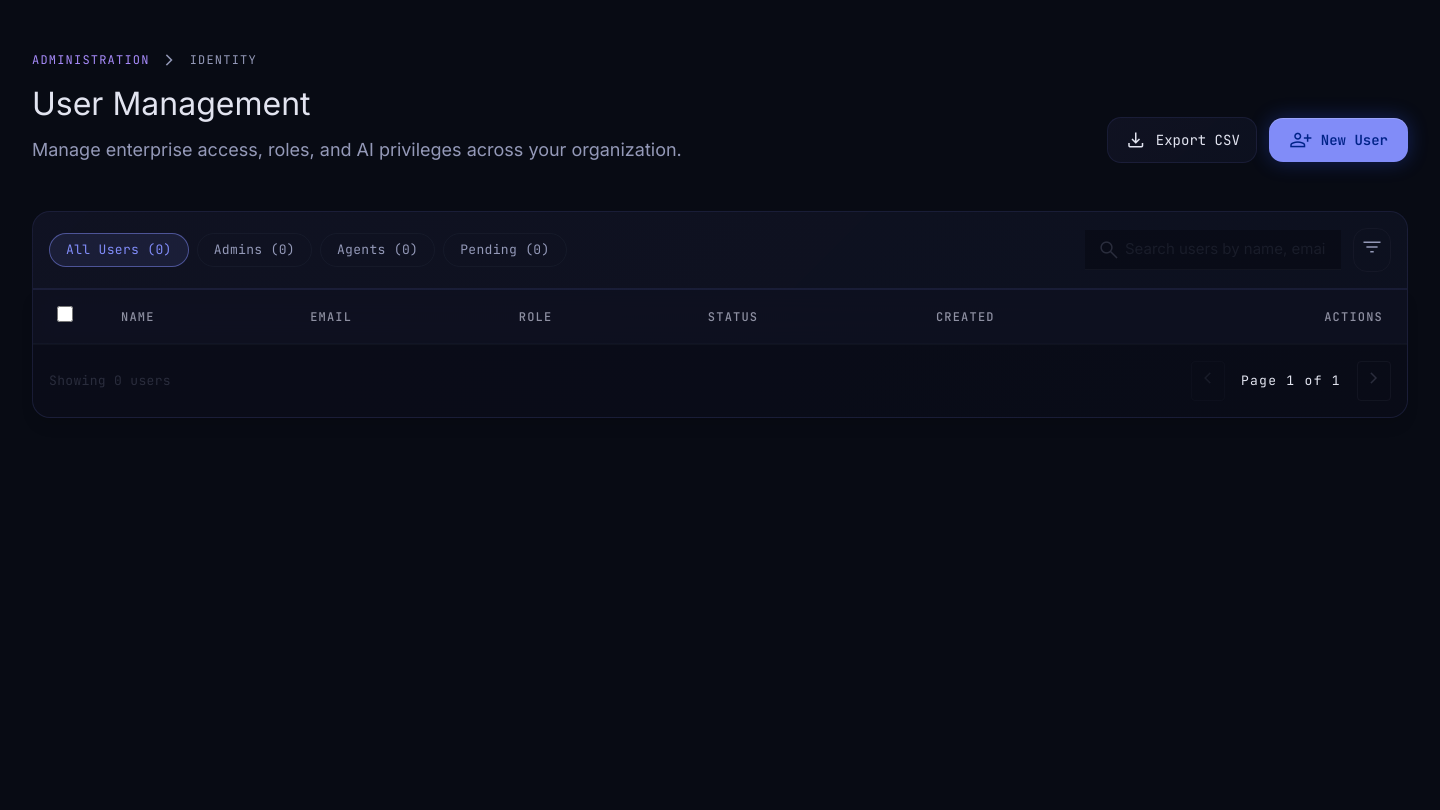
UsersPage › should close the dialog when pressing Escape
The image size is (1440, 810).
Click the button "New User": (1338, 140) [1269,118,1408,162]
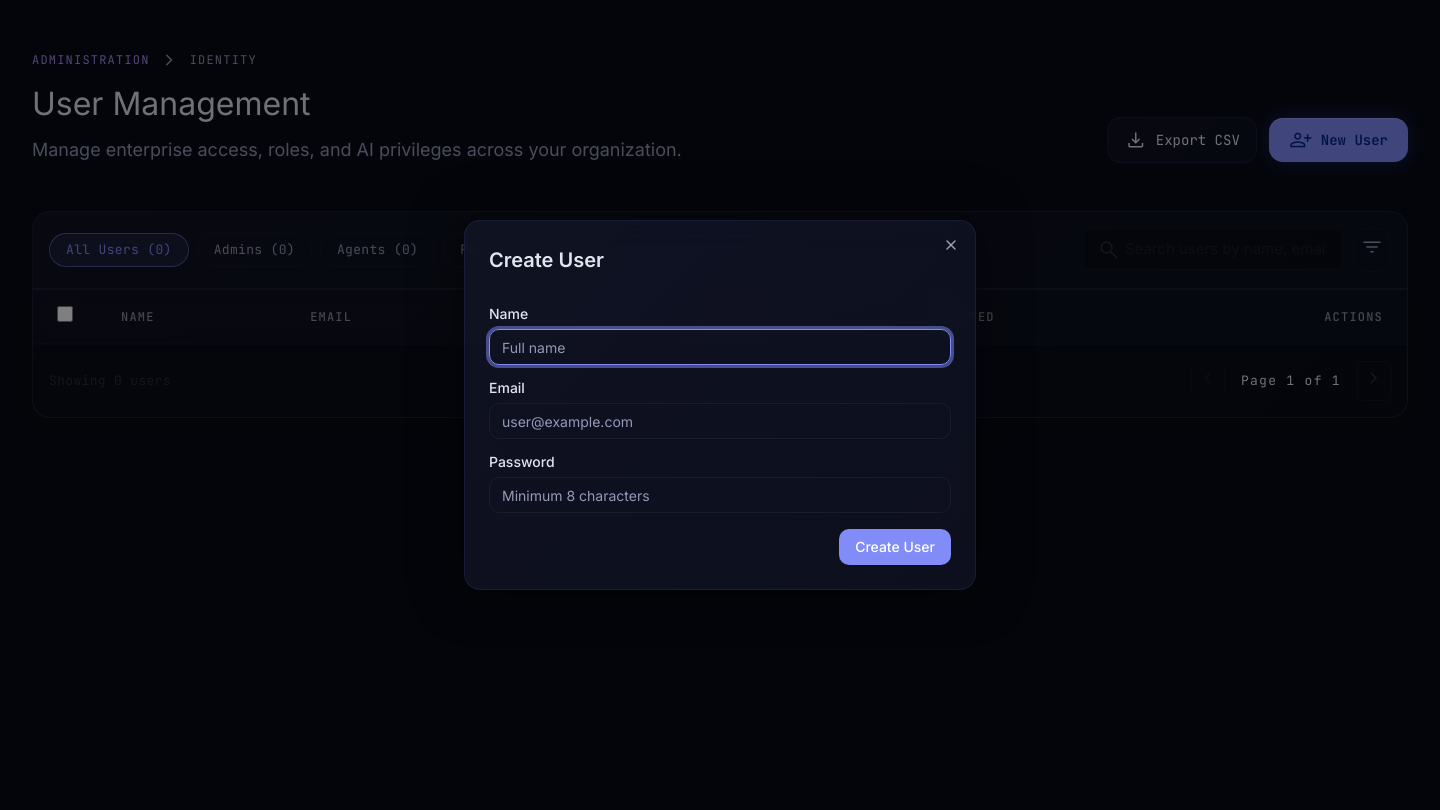
Now the dialog is shown, box [464,220,976,590]
Press Escape
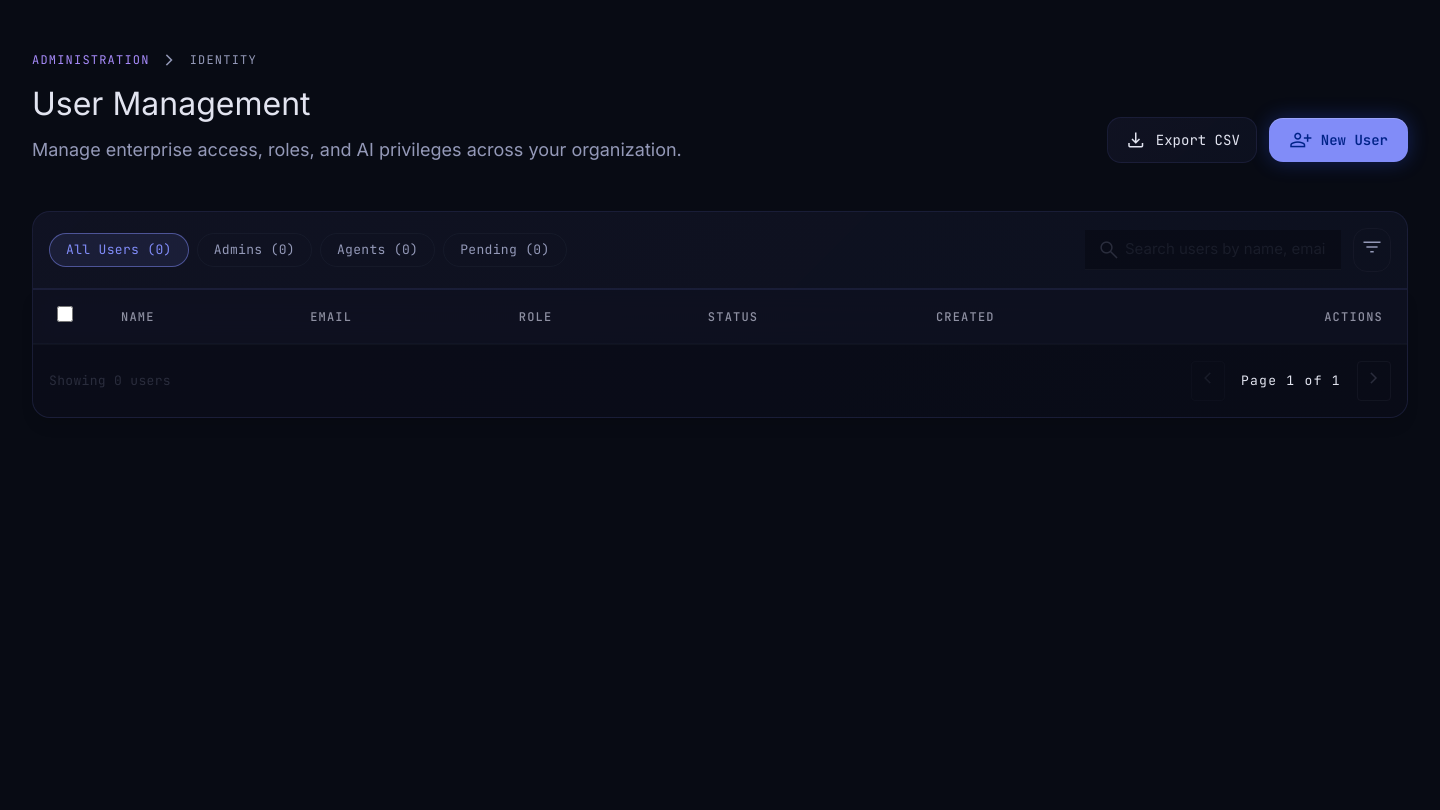
Now the dialog is gone
